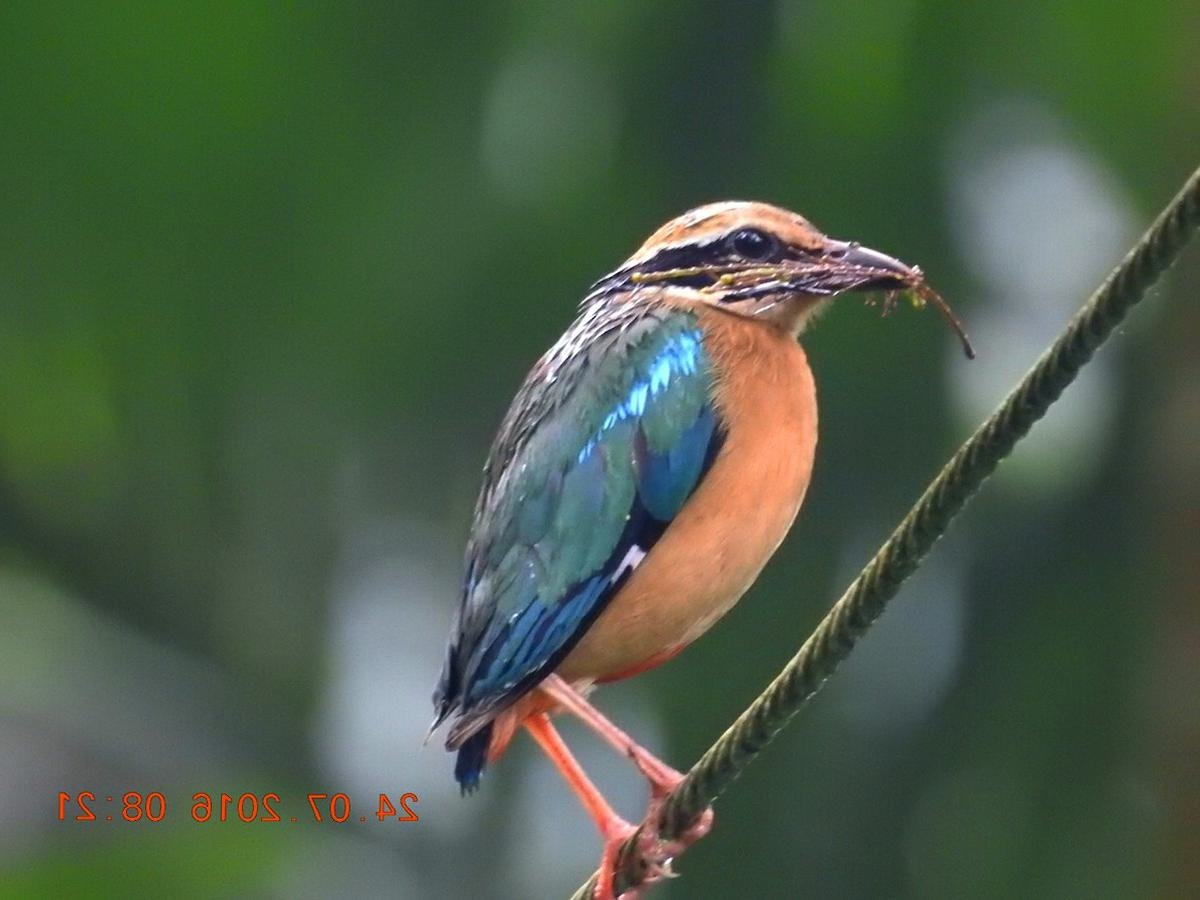pitta: (443, 186, 996, 822)
